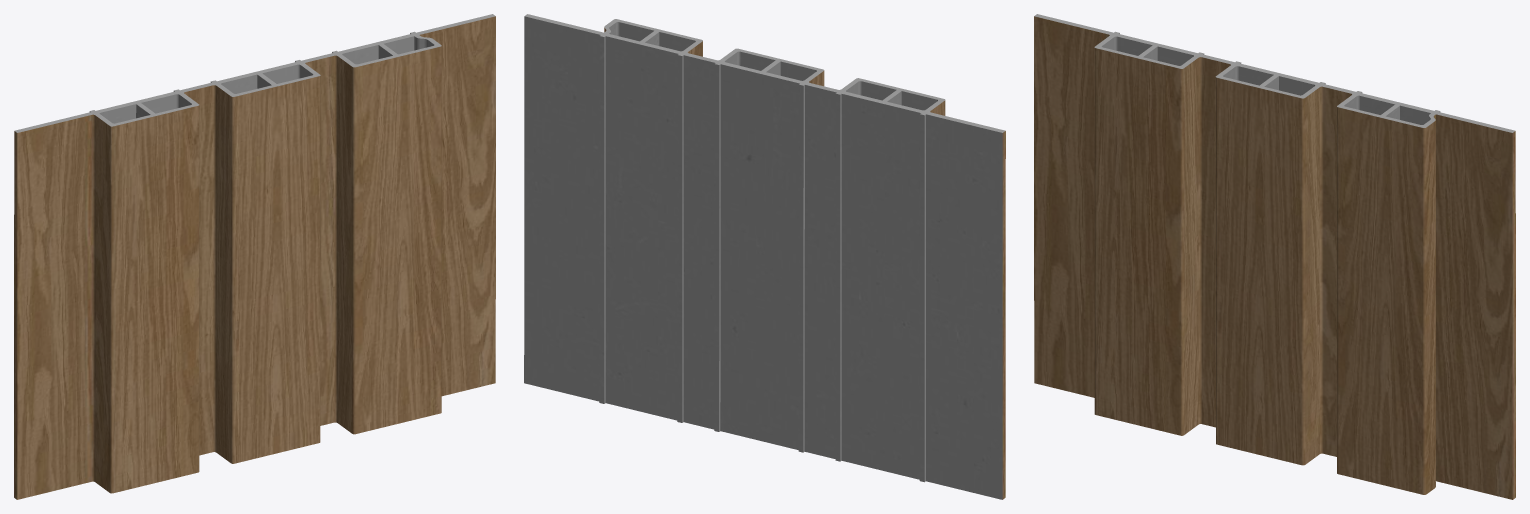
The model's file is 3bolmelitamkaplama.glb.
3 renders of one model, left to right at view 1: azimuth 30°, elevation 25°; view 2: azimuth 150°, elevation 25°; view 3: azimuth 330°, elevation 25°, orthographic.
Parts seen in each view (by area): view 1: Plane.007; view 2: Plane.007; view 3: Plane.007.
Part boxes in pixels (<box>): Plane.007: <box>14,14,495,499</box>; Plane.007: <box>524,14,1005,499</box>; Plane.007: <box>1034,14,1515,499</box>.
Bounding box in the file's own units: 10.06 × 7.37 × 0.7962.
Materials: 2 (2 with a texture image).
